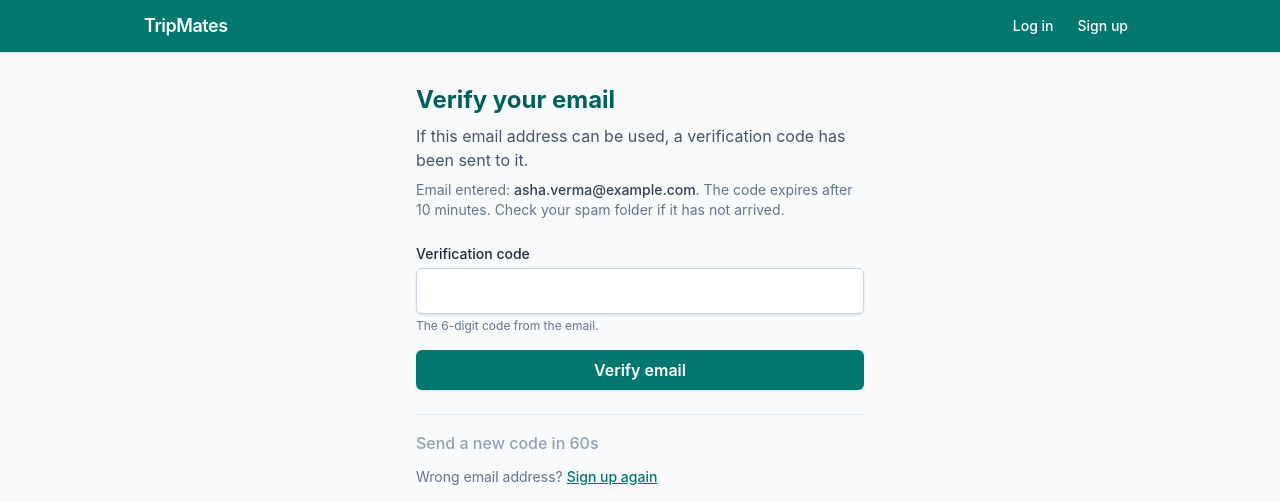
Test case: verify-email screen › shows a wrong code beside the input and keeps the user on the screen
The image size is (1280, 502).
Later steps or results of the test are not shown.
Type "12a34-56" into the field labelled "Verification code" at (640, 291), box [416,268,864,314]
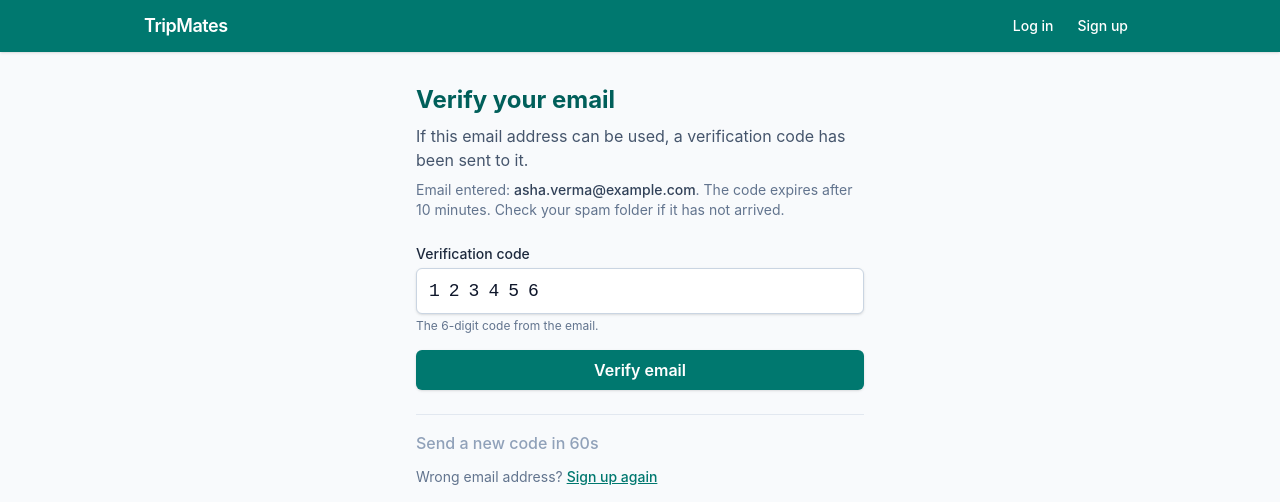
Expected: the field labelled "Verification code" holds "123456", [416,268,864,314]
